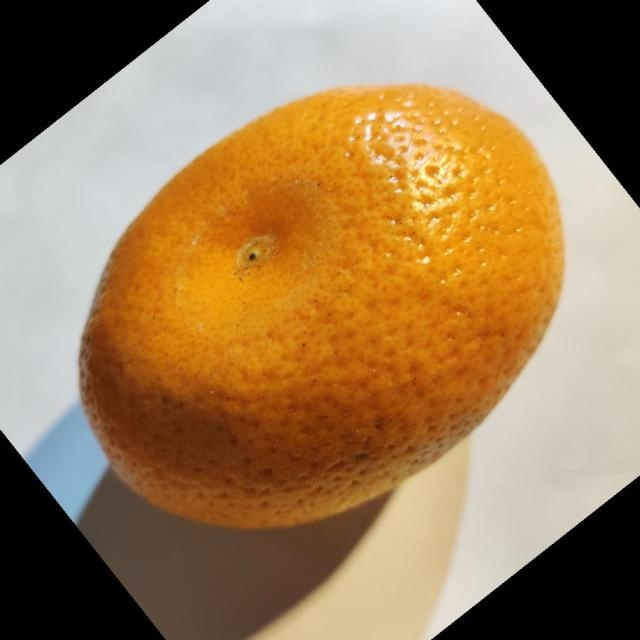agrume: (77, 81, 566, 531)
